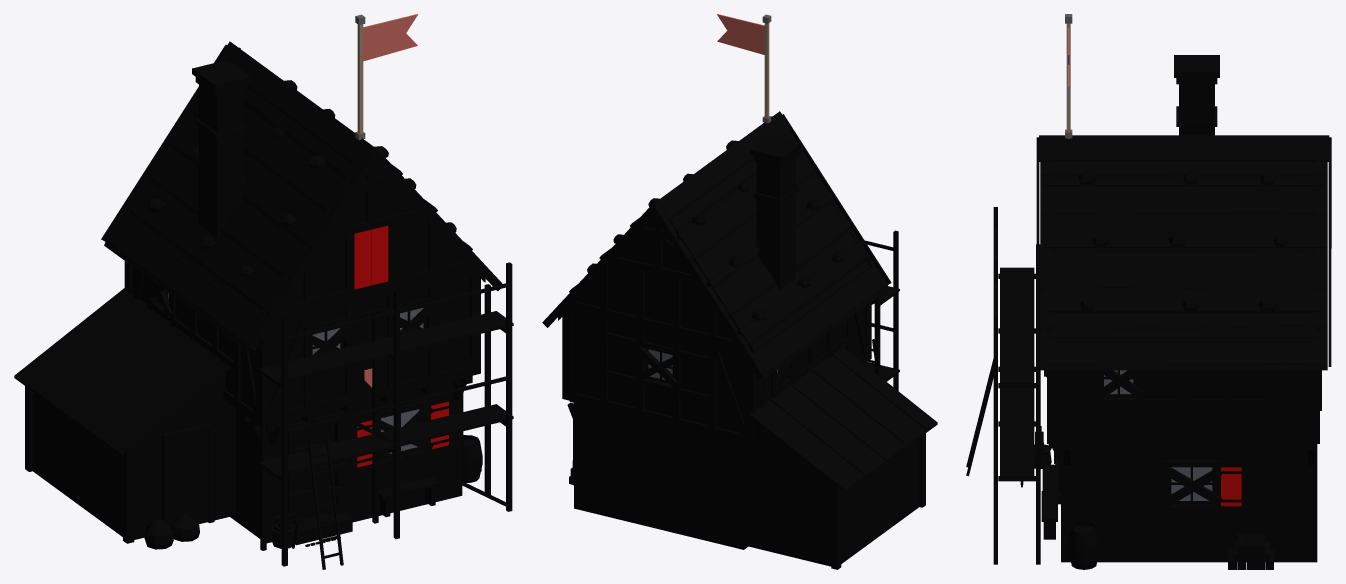
File: wohnhaus_zwerg_s1_g3.glb
3 views of the same model, side by side, from view 1: azimuth 30°, elevation 25°; view 2: azimuth 150°, elevation 25°; view 3: azimuth 270°, elevation 25° (orthographic). The views are drawn at different scales.
Visible parts, largest first — view 1: Haus, Dach, Geruest, Leerstand, Fahne, Scheiben; view 2: Haus, Dach, Geruest, Fahne, Leerstand; view 3: Dach, Haus, Geruest, Leerstand, Scheiben, Fahne.
Boxes of the visible parts, x1,y1,x2,y2 form: Haus: [14, 47, 482, 549]; Dach: [101, 41, 502, 351]; Geruest: [258, 262, 513, 569]; Leerstand: [144, 279, 437, 502]; Fahne: [355, 14, 417, 140]; Scheiben: [165, 290, 423, 453]; Haus: [562, 116, 937, 569]; Dach: [542, 111, 891, 379]; Geruest: [864, 230, 899, 390]; Fahne: [717, 14, 771, 123]; Leerstand: [636, 346, 797, 388]; Dach: [1036, 135, 1331, 370]; Haus: [1020, 55, 1321, 569]; Geruest: [966, 207, 1040, 564]; Leerstand: [1044, 370, 1221, 508]; Scheiben: [1104, 370, 1212, 500]; Fahne: [1065, 14, 1072, 138].
Bounding box in the file's own units: 7.78 × 10.74 × 7.12.
